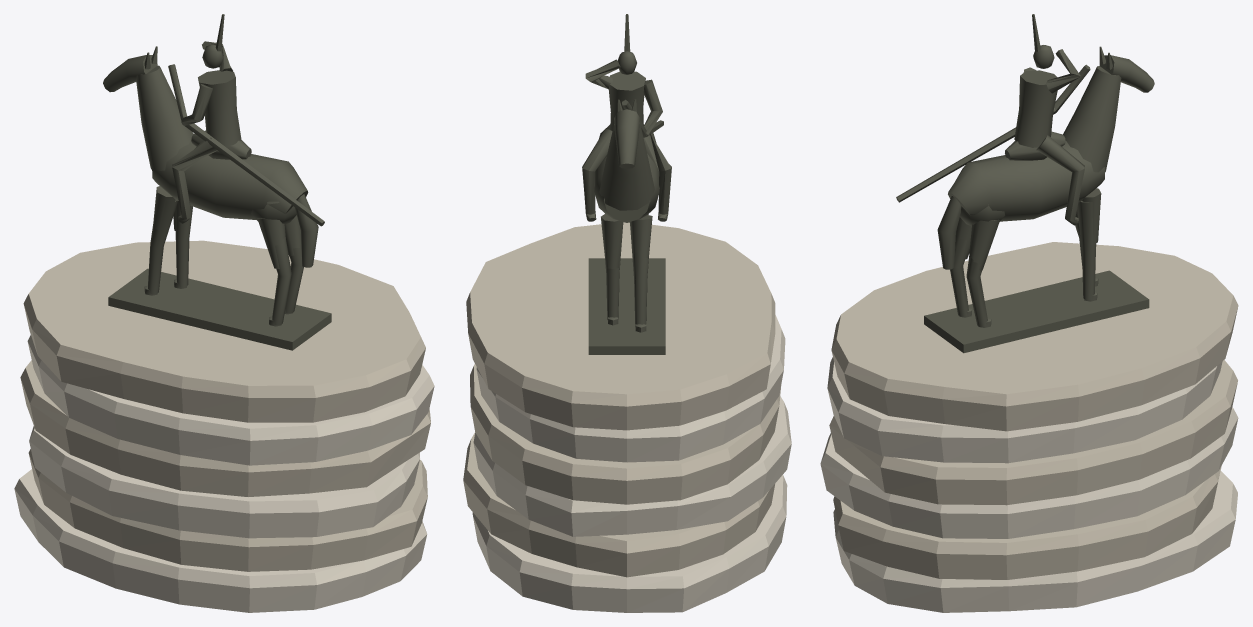
File: kc-scout.glb
3 views of the same model, side by side, from view 1: azimuth 30°, elevation 25°; view 2: azimuth 150°, elevation 25°; view 3: azimuth 270°, elevation 25° (orthographic). The views are drawn at different scales.
Visible parts, largest first — view 1: The Scout; view 2: The Scout; view 3: The Scout.
Boxes of the visible parts, x1,y1,x2,y2 form: The Scout: [14, 14, 434, 612]; The Scout: [463, 14, 791, 612]; The Scout: [820, 14, 1238, 612].
Size of the model in its own units: 3.87 by 6.09 by 4.38.
